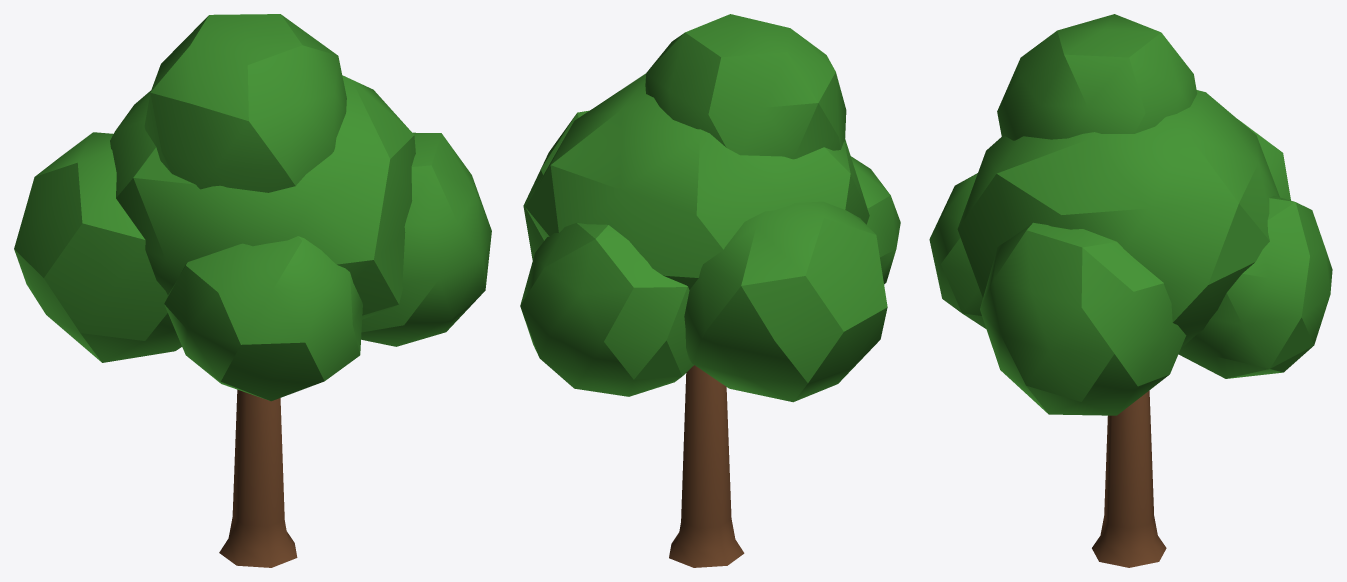
Rendered from tree_oak.glb.
The picture shows the model from 3 angles, left to right: view 1: azimuth 30°, elevation 25°; view 2: azimuth 150°, elevation 25°; view 3: azimuth 270°, elevation 25°; orthographic projection. The views are drawn at different scales.
Parts seen in each view (by area): view 1: tree; view 2: tree; view 3: tree.
Part boxes in pixels (x1=…): tree: x1=14, y1=14, x2=491, y2=567; tree: x1=520, y1=14, x2=900, y2=567; tree: x1=929, y1=14, x2=1332, y2=567.
Size of the model in its own units: 5.26 by 6.8 by 4.88.
